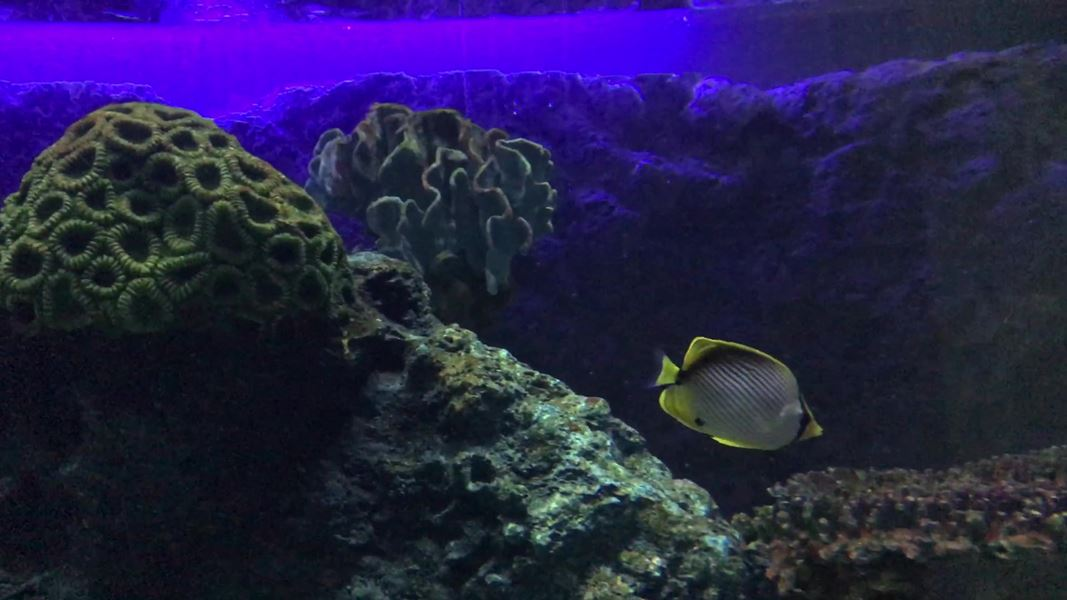Black-backed butterflyfish: (635, 324, 833, 460)
